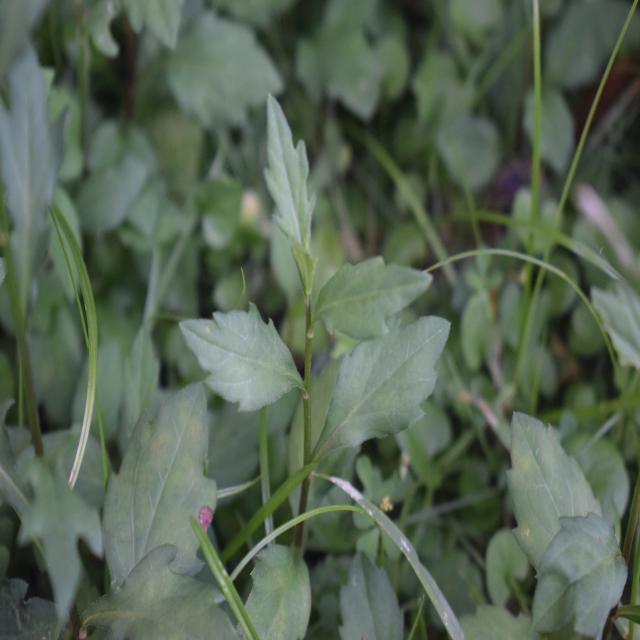Indian aster: (189, 130, 441, 490)
